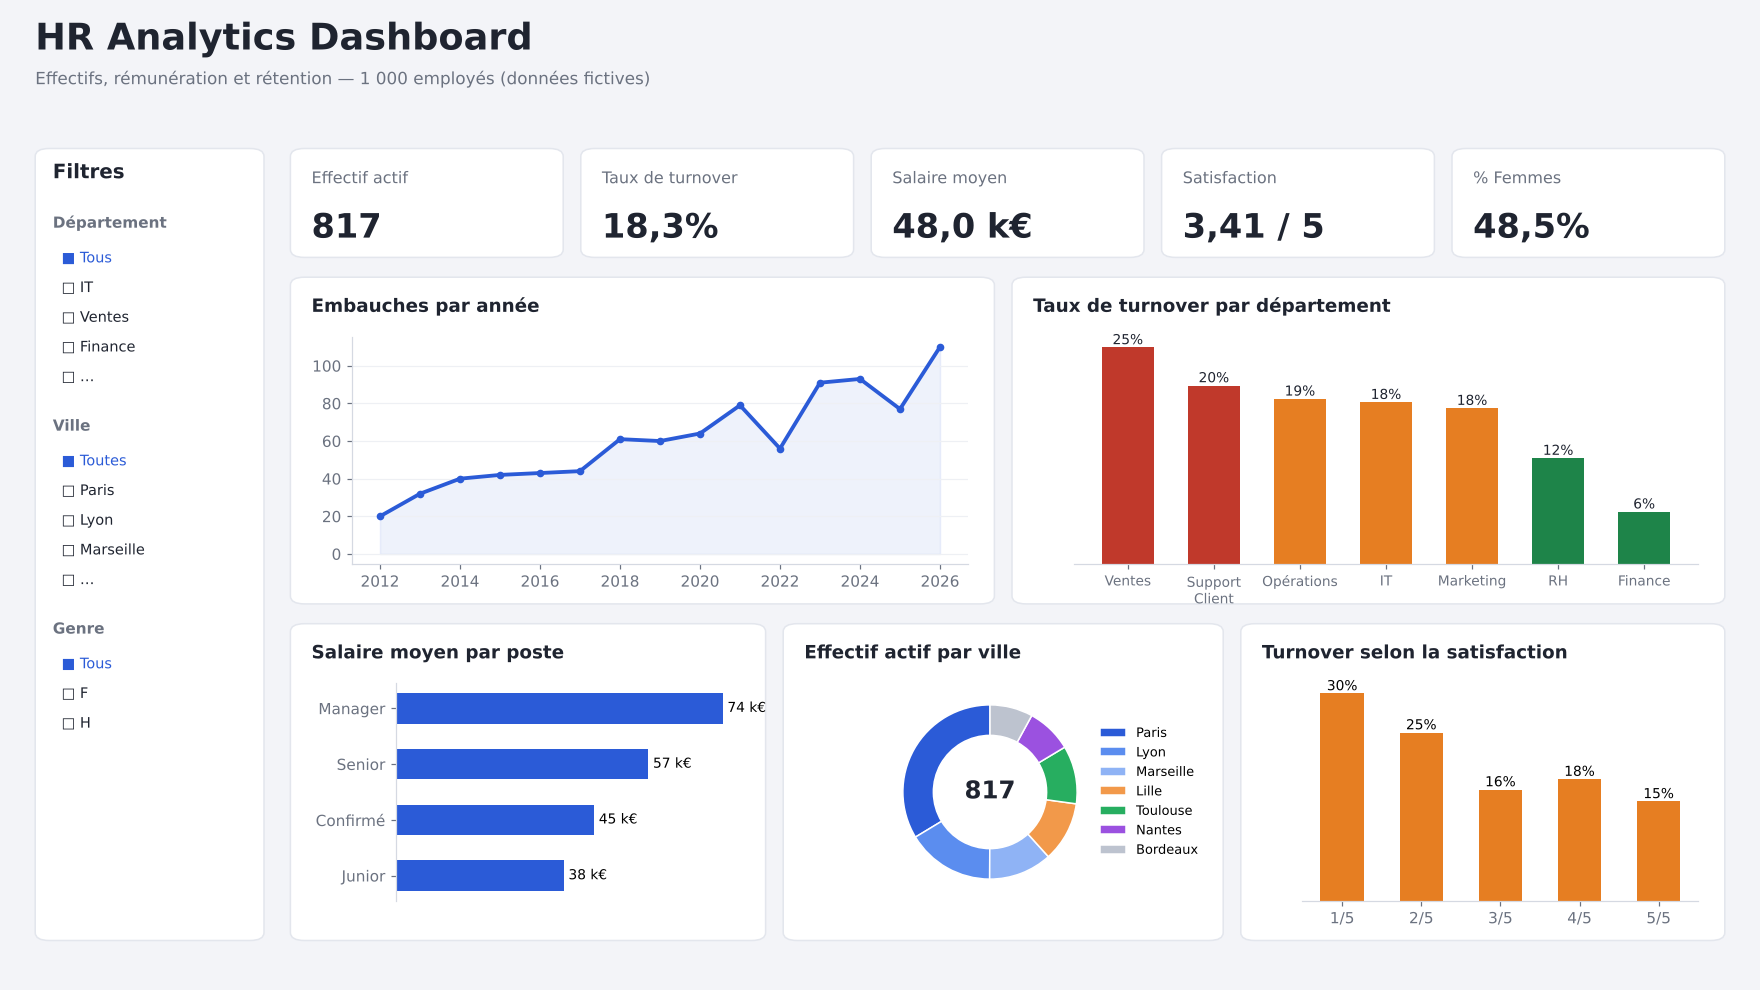

What the dashboard file says about the page in this screenshot:
{"tool":"powerbi","page":{"name":"Vue d’ensemble RH","canvas":[1920,1080],"ordinal":0},"visuals":[{"type":"textbox","box":[0,0,1920.1,68.8],"z":0},{"type":"cardVisual","fields":{"Data":["_Mesures.Effectif Actif"]},"box":[7,162.1,335.2,149.4],"z":1000},{"type":"cardVisual","fields":{"Data":["_Mesures.Taux Turnover"]},"box":[389.6,162.1,335.2,149.4],"z":2000},{"type":"cardVisual","fields":{"Data":["_Mesures.Salaire Moyen"]},"box":[799.6,162.1,335.2,149.4],"z":3000},{"type":"cardVisual","fields":{"Data":["_Mesures.Satisfaction Moyenne"]},"box":[1176.7,162.1,335.2,149.4],"z":4000},{"type":"cardVisual","fields":{"Data":["_Mesures.Pct Femmes"]},"box":[1592.1,162.1,335.2,149.4],"z":5000},{"type":"lineChart","title":"Embauches par année","fields":{"Category":["Calendrier.Annee"],"Y":["_Mesures.Embauches"]},"box":[1.4,335.9,960.9,323.9],"z":6000},{"type":"clusteredColumnChart","title":"Taux de turnover par département","fields":{"Category":["Employes.departement"],"Y":["_Mesures.Taux Turnover"]},"box":[962.4,335.9,946.5,325.7],"z":7000},{"type":"clusteredBarChart","title":"Salaire moyen par poste","fields":{"Category":["Employes.poste"],"Y":["_Mesures.Salaire Moyen"]},"box":[0,687.7,550.1,333],"z":8000},{"type":"donutChart","title":"Effectif actif par ville","fields":{"Category":["Employes.ville"],"Y":["_Mesures.Effectif Actif"]},"box":[604.4,687.7,620.7,336.6],"z":9000},{"type":"clusteredColumnChart","title":"Turnover selon la satisfaction (1 à 5)","fields":{"Category":["Employes.satisfaction"],"Y":["_Mesures.Taux Turnover"]},"box":[1265,687.7,655.1,336.6],"z":10000},{"type":"slicer","fields":{"Values":["Employes.departement"]},"box":[99.5,83.1,242.5,55],"z":11000},{"type":"slicer","fields":{"Values":["Employes.ville"]},"box":[1511.1,83.1,242,55],"z":12000}]}

Visuals, with their boxes in screenshot pixels (x1, y1, x2, y2), scaled from the page's 1920x1080 canvas onto the 1760x990 screenshot:
textbox: detection(0, 0, 1759, 63)
cardVisual - _Mesures.Effectif Actif: detection(6, 149, 314, 286)
cardVisual - _Mesures.Taux Turnover: detection(357, 149, 664, 286)
cardVisual - _Mesures.Salaire Moyen: detection(733, 149, 1040, 286)
cardVisual - _Mesures.Satisfaction Moyenne: detection(1079, 149, 1386, 286)
cardVisual - _Mesures.Pct Femmes: detection(1459, 149, 1759, 286)
"Embauches par année" lineChart: detection(1, 308, 882, 605)
"Taux de turnover par département" clusteredColumnChart: detection(882, 308, 1750, 606)
"Salaire moyen par poste" clusteredBarChart: detection(0, 630, 504, 936)
"Effectif actif par ville" donutChart: detection(554, 630, 1123, 939)
"Turnover selon la satisfaction (1 à 5)" clusteredColumnChart: detection(1160, 630, 1759, 939)
slicer - Employes.departement: detection(91, 76, 314, 127)
slicer - Employes.ville: detection(1385, 76, 1607, 127)
